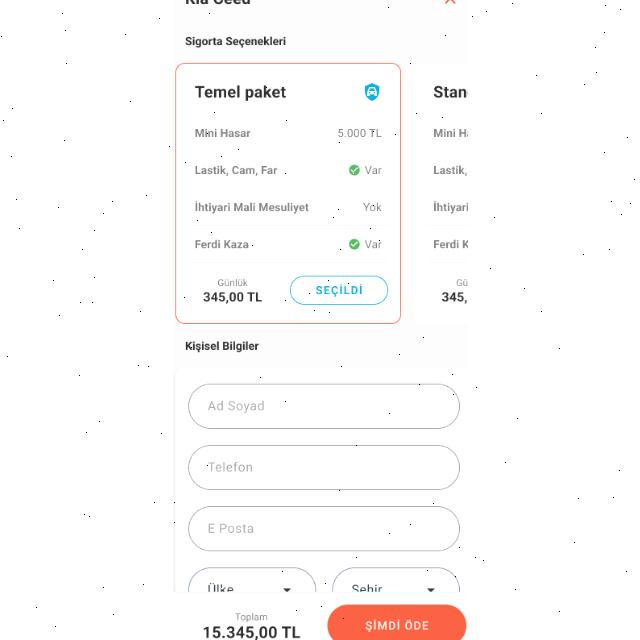QLabel: (191, 82, 287, 102), (181, 34, 287, 50), (192, 199, 308, 213), (180, 337, 258, 355), (201, 626, 297, 640), (190, 165, 278, 177), (361, 618, 429, 632), (199, 290, 261, 304), (425, 82, 467, 100), (190, 128, 252, 140), (314, 284, 364, 298), (192, 239, 250, 249), (429, 126, 466, 138), (429, 164, 466, 176), (429, 200, 466, 212), (338, 129, 382, 139), (213, 276, 247, 288), (431, 238, 467, 248), (232, 612, 268, 622), (439, 291, 466, 303), (182, 0, 250, 4), (362, 164, 382, 176), (361, 202, 381, 212), (363, 240, 381, 248), (455, 276, 467, 286)
VBtn: (326, 604, 466, 640), (289, 276, 387, 304)
VCard: (173, 366, 467, 592), (172, 61, 402, 326), (411, 60, 467, 326)
VCombobox: (187, 568, 316, 592), (332, 568, 458, 592)
VDivider: (183, 149, 393, 155), (183, 185, 391, 191), (184, 260, 392, 266), (184, 222, 390, 228), (185, 112, 388, 116), (423, 223, 467, 227), (425, 112, 467, 116), (425, 149, 467, 153), (424, 186, 466, 190), (424, 260, 466, 264)
VFooter: (172, 592, 468, 640)
VIcon: (437, 0, 463, 12), (364, 83, 378, 101), (347, 238, 359, 250), (348, 164, 358, 176)
VTextField: (188, 443, 460, 492), (187, 382, 459, 430), (187, 504, 459, 552)
